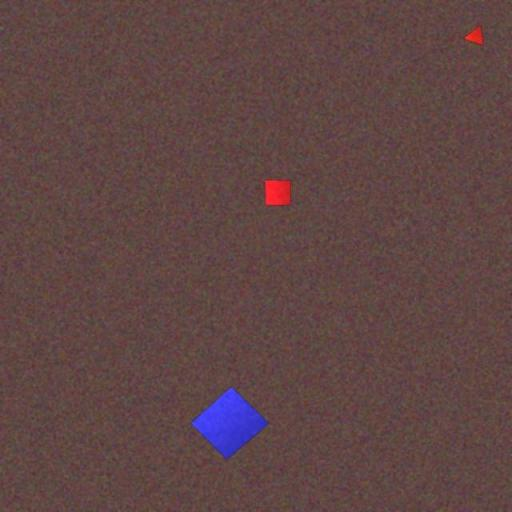BLUE_SQUARE: (190, 386, 270, 461)
RED_SQUARE: (264, 180, 292, 206)
